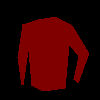abbigliamento_uomo: (17, 16, 89, 91)
